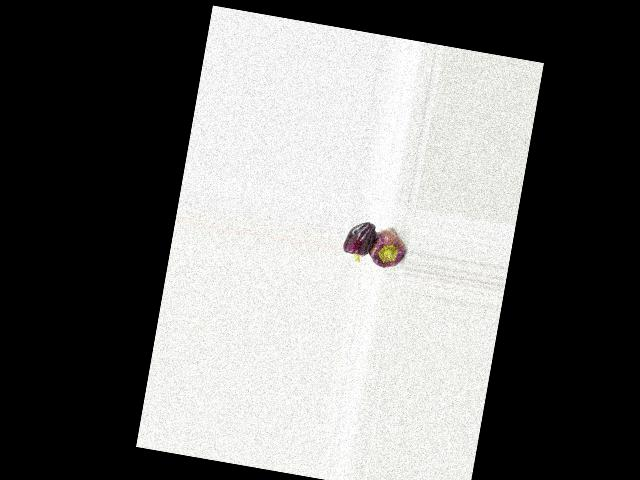bell_pepper: (364, 217, 411, 279)
